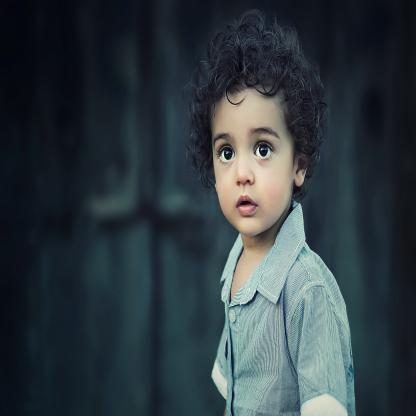Eye: (252, 136, 276, 163), (217, 142, 237, 165)
Mouth: (232, 192, 261, 220)
Nose: (235, 154, 256, 186)
